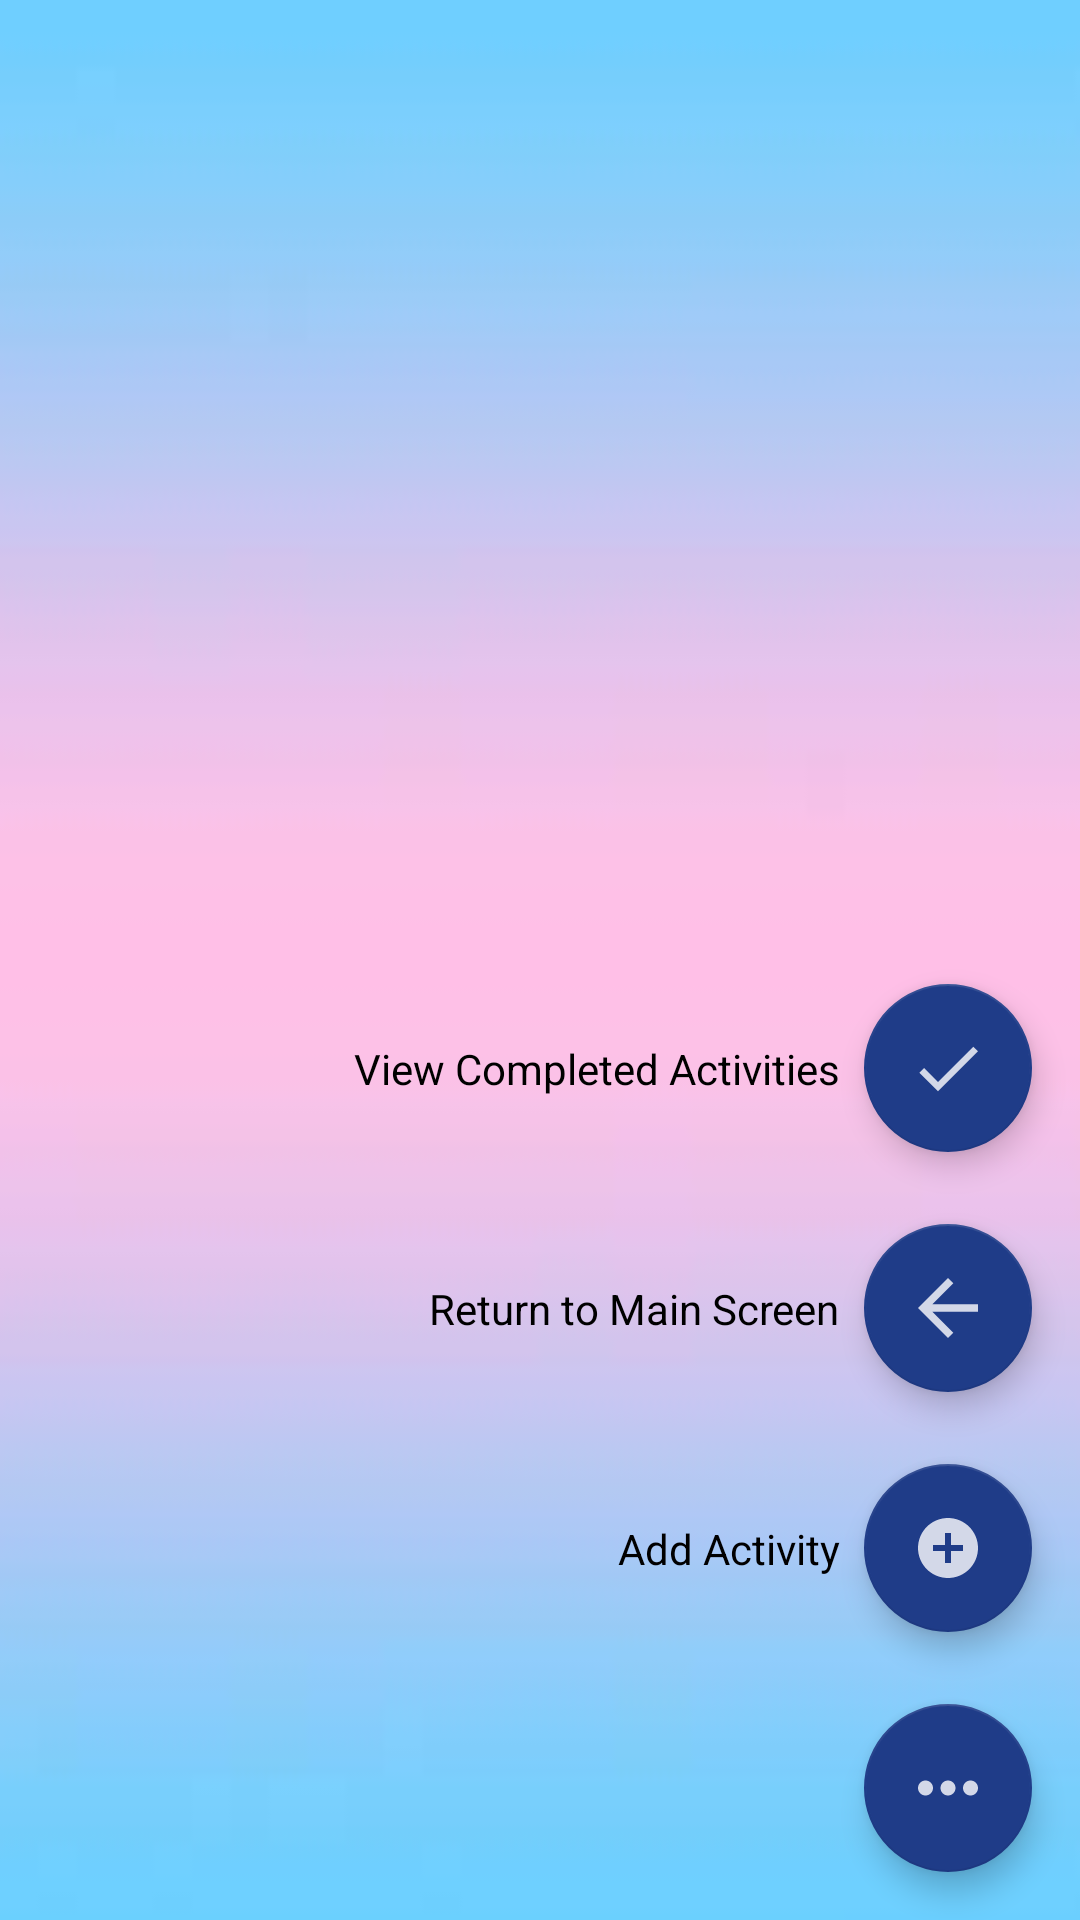

Where to tap for icons on this 1080×1920 app screen, as [x,y]:
back: [948,1308]
more: [948,1788]
